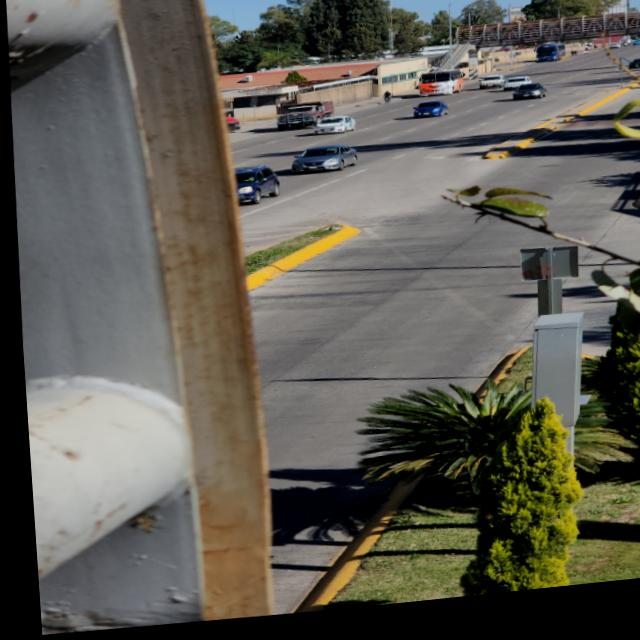Auto: (289, 148, 354, 184), (233, 169, 278, 211), (505, 88, 545, 113), (310, 121, 354, 143), (410, 107, 446, 129), (533, 53, 563, 74), (477, 83, 504, 102), (225, 118, 240, 135), (625, 72, 640, 84), (628, 50, 640, 60)
Autobus: (415, 77, 463, 107)
